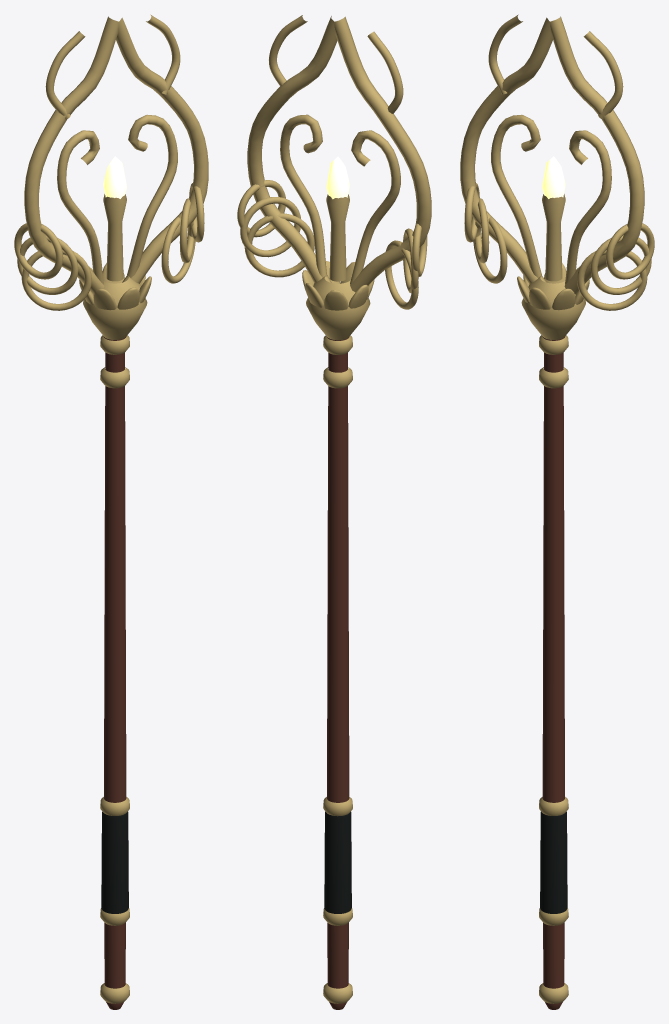
File: SaintsRingStaff.glb
3 renders of one model, left to right at view 1: azimuth 30°, elevation 25°; view 2: azimuth 150°, elevation 25°; view 3: azimuth 330°, elevation 25°, orthographic.
Parts seen in each view (by area): view 1: BronzeFinial, Shaft, WrappedGrip, LooseRing_1, LooseRing_3, LooseRing_2, LooseRing_4, Ember, LooseRing_5, LooseRing_6; view 2: BronzeFinial, Shaft, WrappedGrip, LooseRing_4, LooseRing_5, LooseRing_6, Ember, LooseRing_1, LooseRing_3, LooseRing_2; view 3: BronzeFinial, Shaft, WrappedGrip, LooseRing_4, LooseRing_6, LooseRing_5, LooseRing_1, Ember, LooseRing_2, LooseRing_3.
Boxes of the visible parts, x1,y1,x2,y2 form: BronzeFinial: [24, 14, 208, 1003]; Shaft: [103, 336, 126, 1009]; WrappedGrip: [101, 811, 128, 913]; LooseRing_1: [21, 250, 91, 310]; LooseRing_3: [14, 223, 63, 279]; LooseRing_2: [17, 235, 78, 294]; LooseRing_4: [161, 216, 195, 283]; Ember: [103, 156, 126, 198]; LooseRing_5: [179, 198, 194, 263]; LooseRing_6: [189, 183, 204, 242]; BronzeFinial: [247, 15, 431, 1003]; Shaft: [327, 337, 349, 1009]; WrappedGrip: [324, 811, 351, 913]; LooseRing_4: [244, 213, 314, 277]; LooseRing_5: [240, 197, 300, 257]; LooseRing_6: [237, 180, 285, 237]; Ember: [326, 156, 349, 199]; LooseRing_1: [385, 240, 418, 309]; LooseRing_3: [412, 223, 427, 276]; LooseRing_2: [403, 228, 418, 292]; BronzeFinial: [460, 14, 644, 1003]; Shaft: [542, 336, 565, 1009]; WrappedGrip: [540, 811, 567, 913]; LooseRing_4: [577, 250, 647, 310]; LooseRing_6: [605, 223, 654, 279]; LooseRing_5: [590, 235, 651, 294]; LooseRing_1: [473, 216, 507, 283]; Ember: [542, 156, 565, 198]; LooseRing_2: [474, 198, 489, 263]; LooseRing_3: [464, 183, 479, 242].
Bounding box in the file's own units: 0.6871 × 3.56 × 0.2335.
